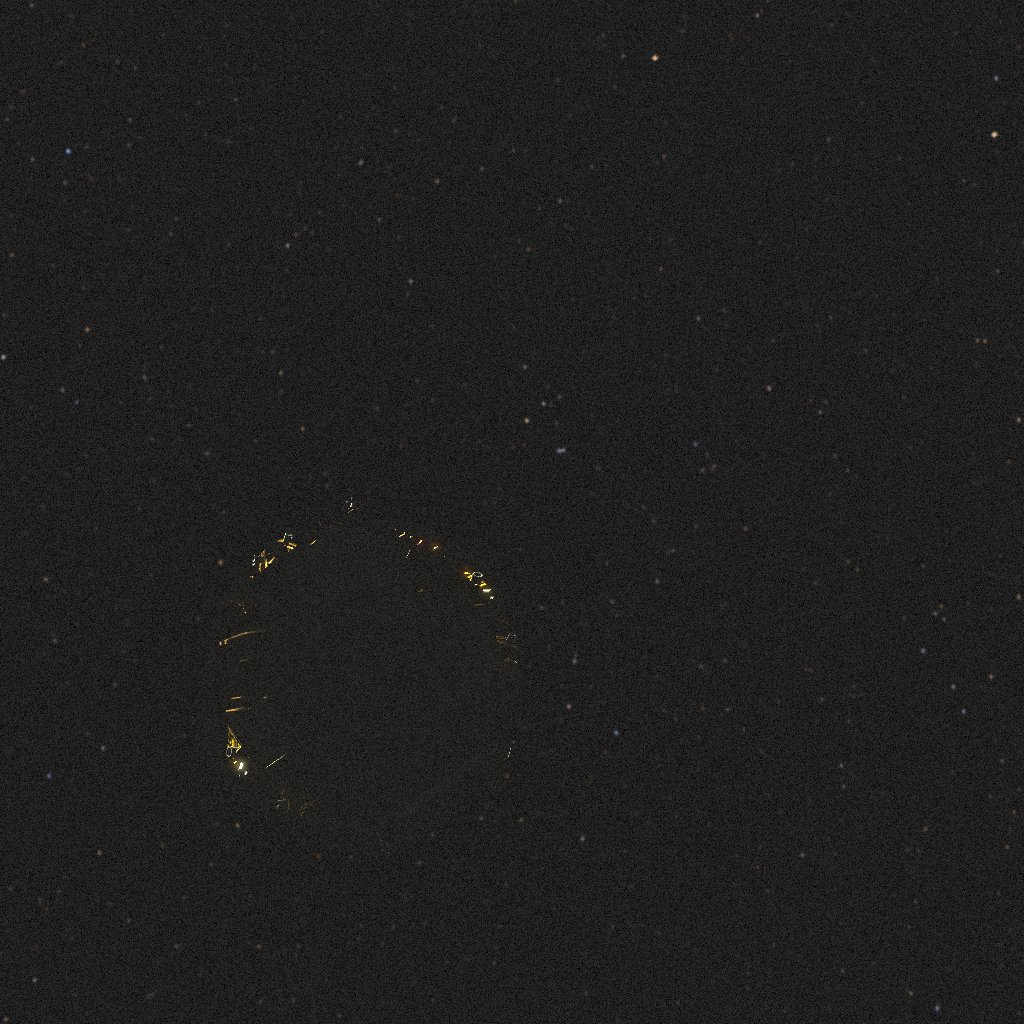lisa_pathfinder: (211, 520, 517, 845)
